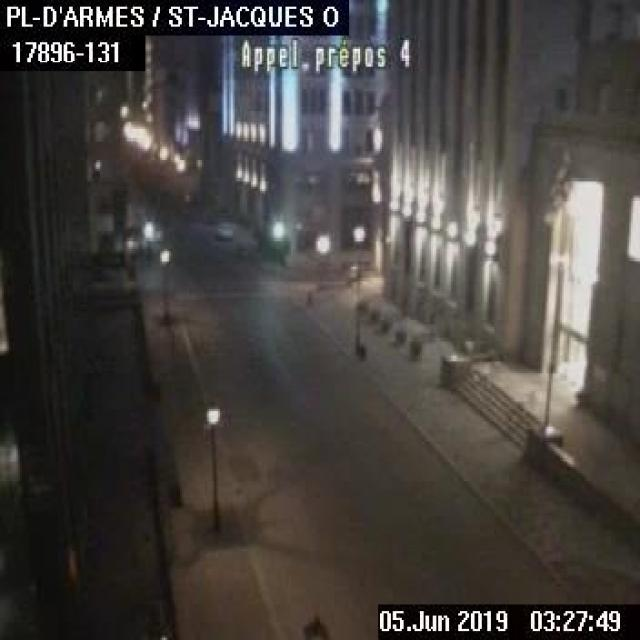vehicle: (215, 220, 232, 238)
